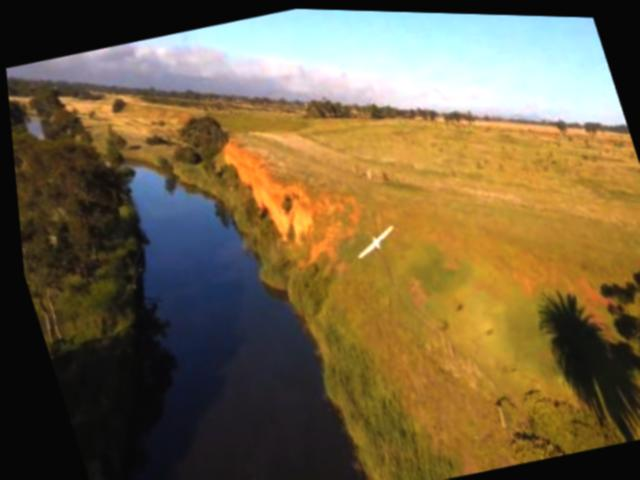uav: (345, 217, 399, 258)
